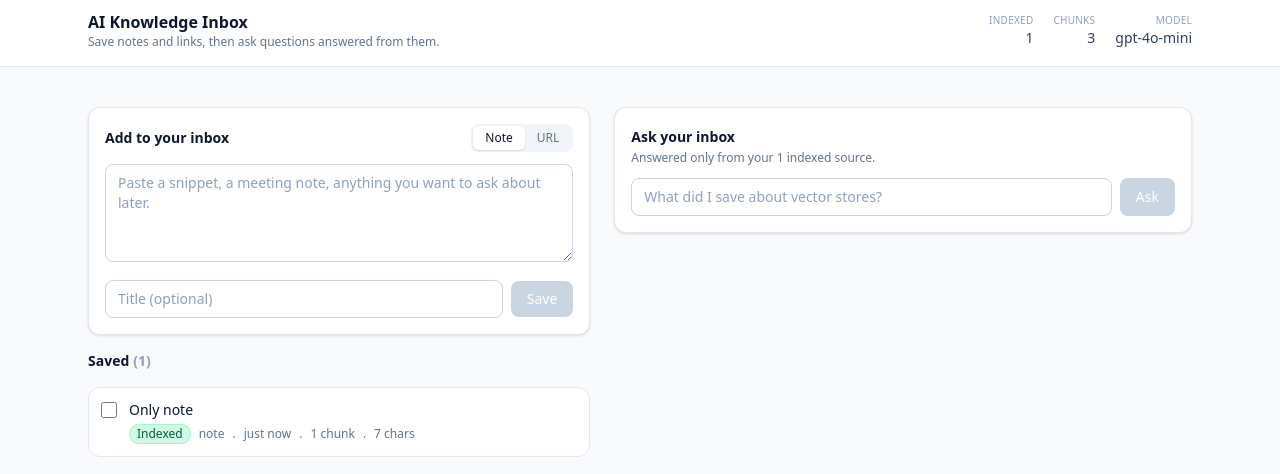
it: App › can clear a source restriction
Expected: the text "Only note" is shown, x1=129 y1=400 x2=193 y2=419
Click the checkbox named "Restrict questions to Only note" at x=109, y=410, box x1=101 y1=402 x2=117 y2=418
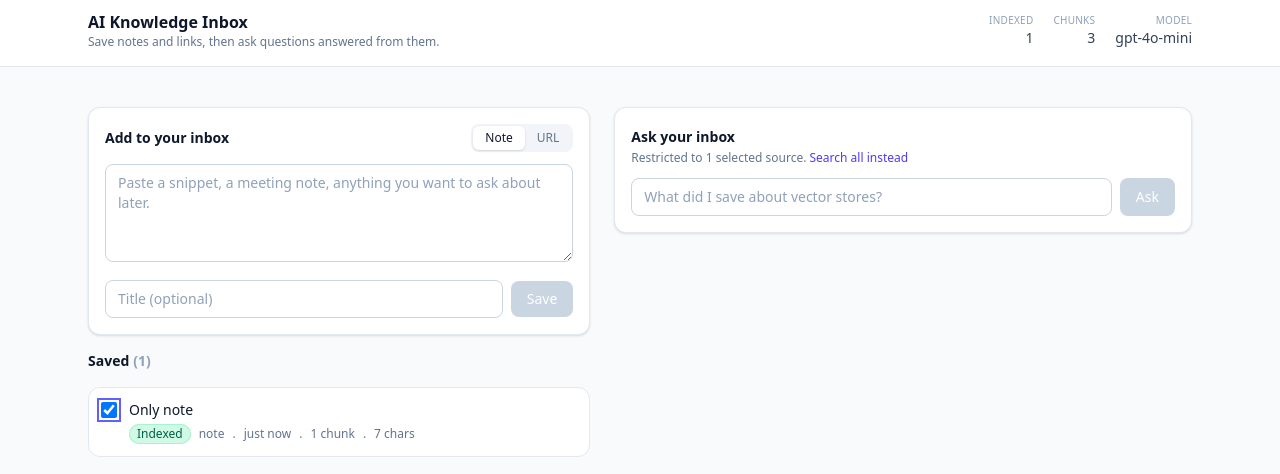
Click the button "Search all instead" at x=859, y=158, box x1=810 y1=150 x2=908 y2=166
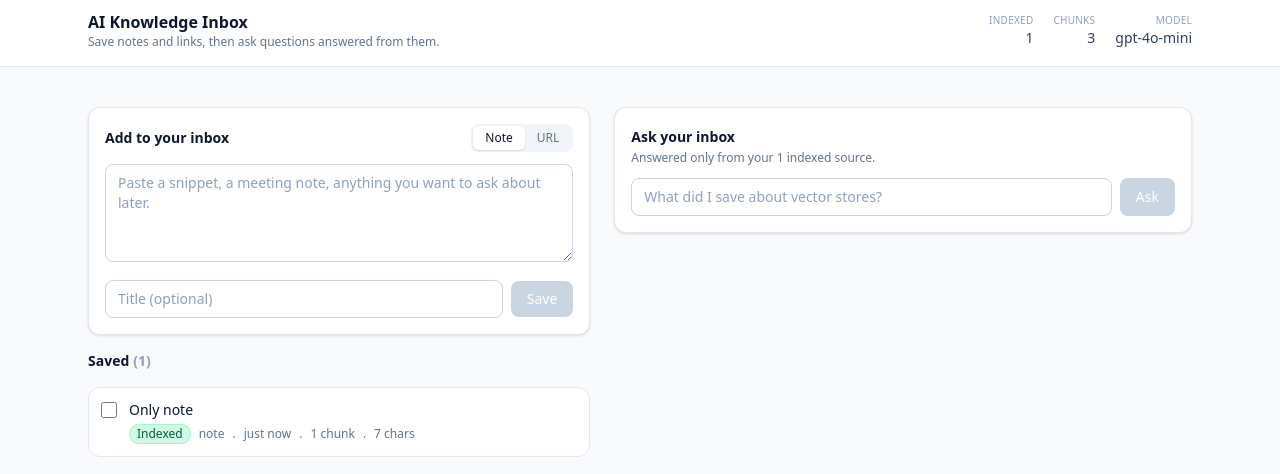
Result: the text "Answered only from your 1 indexed source." is shown at x1=631 y1=149 x2=875 y2=166
